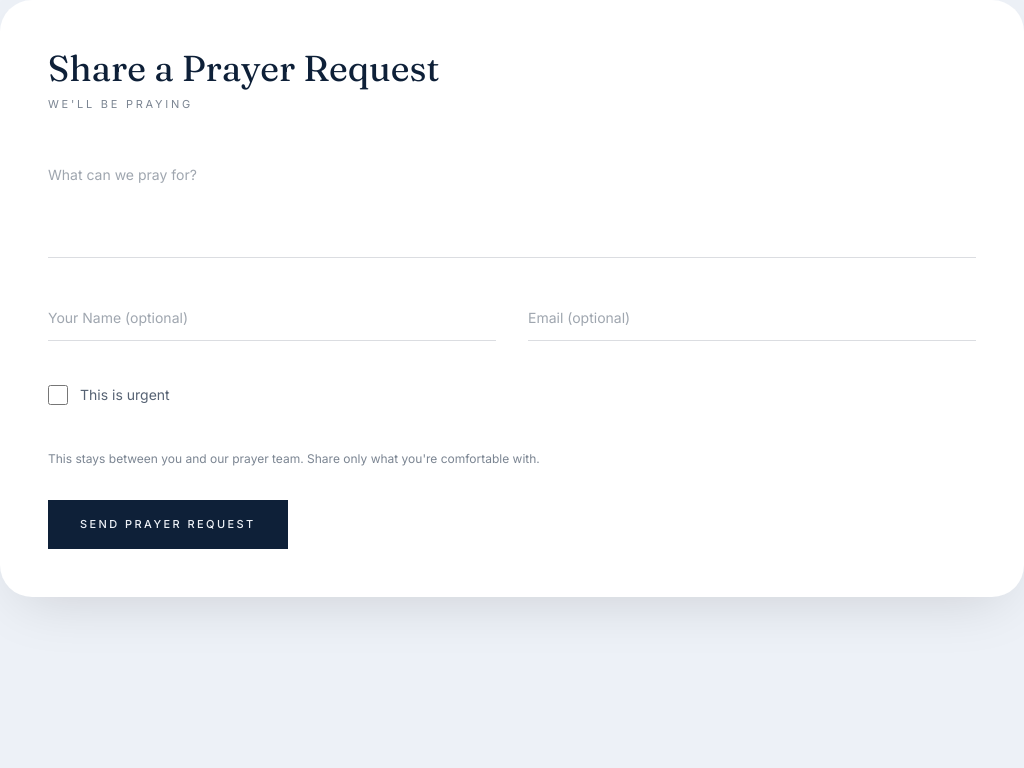
Test: PrayerForm › on a 500 shows the server error in an alert
Type "Peace" into the text box labelled "What can we pray for?" at coordinates (512, 205), box [48,152,976,258]
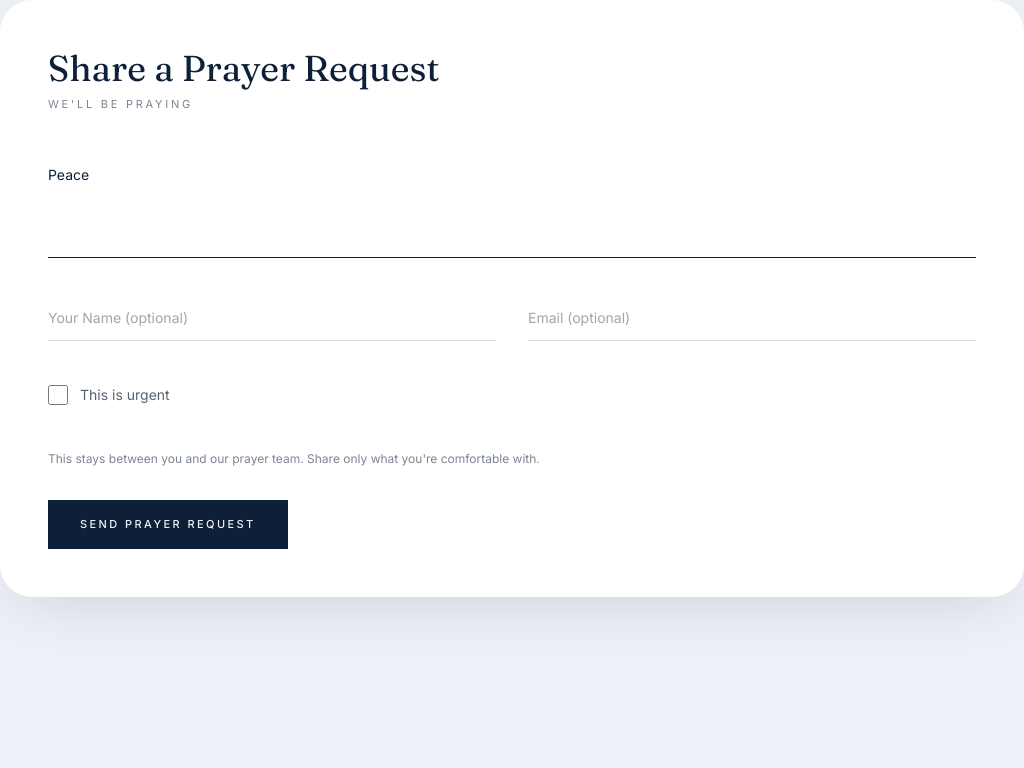
Click the button "Send Prayer Request" at coordinates (168, 524), box [48,500,288,548]
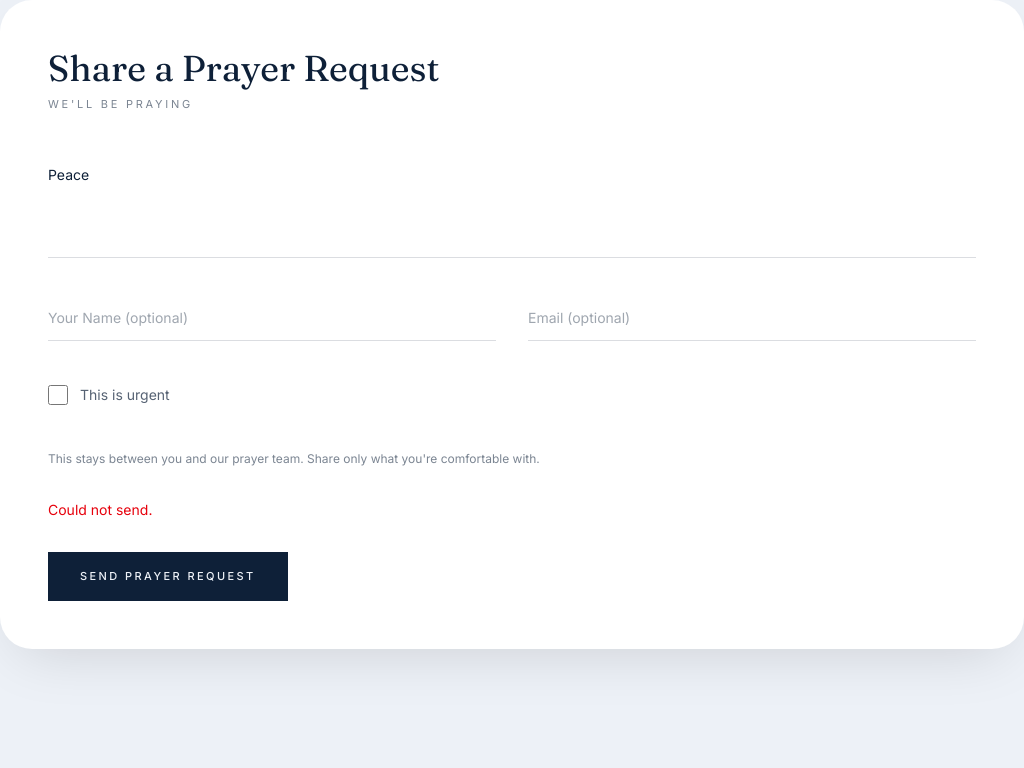
Check: the button "Send Prayer Request" is enabled, box [48,552,288,600]
Check: the message reads "Could not send.", box [48,501,152,518]
